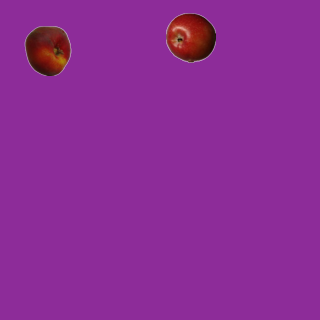Apple Braeburn: (165, 12, 215, 62)
Nectarine Flat: (22, 25, 72, 75)
